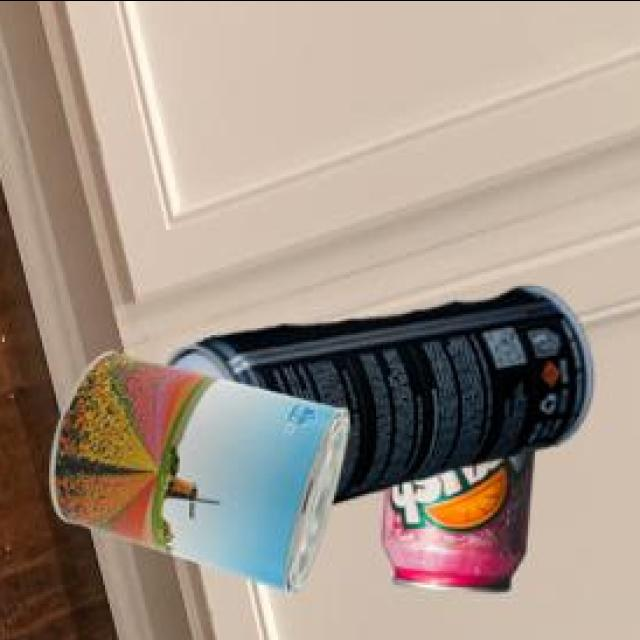logam: (172, 281, 597, 499), (53, 347, 354, 590), (387, 446, 538, 587)
